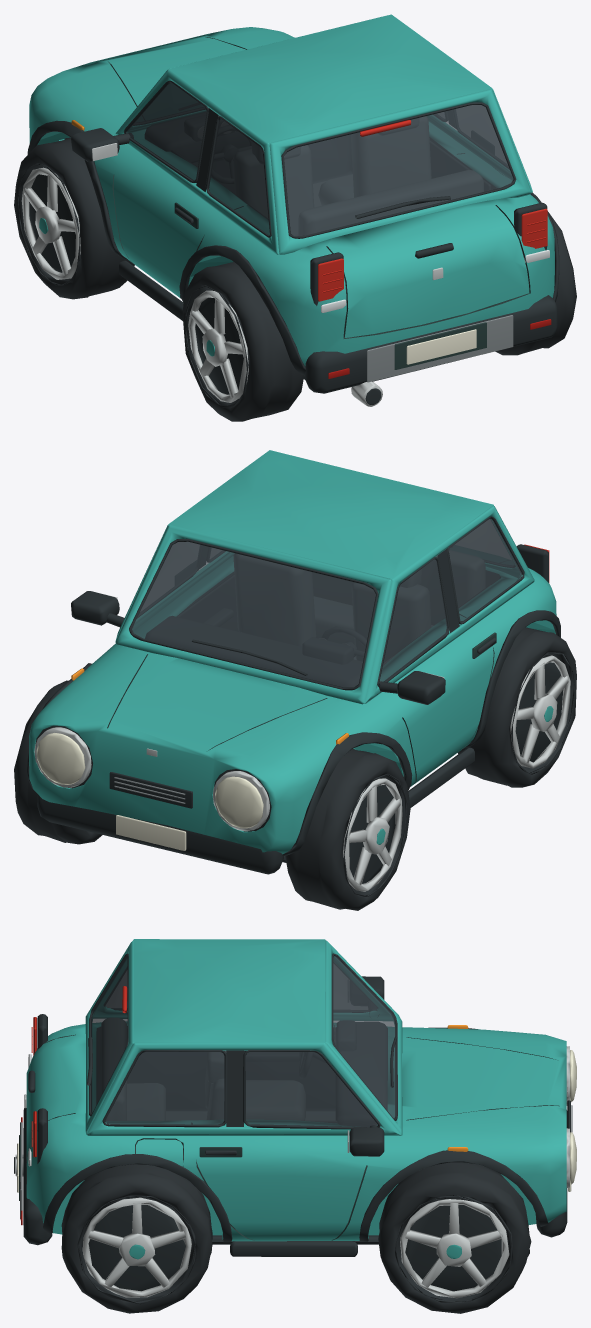
The model's file is compact_v1_lod2.fbx.
3 views of the same model, one above another, from view 1: azimuth 30°, elevation 25°; view 2: azimuth 150°, elevation 25°; view 3: azimuth 270°, elevation 25° (orthographic). The views are drawn at different scales.
Visible parts, largest first — view 1: Body, Wheel_RL_Mesh, Wheel_FL_Mesh, Wheel_RR_Mesh; view 2: Body, Wheel_FL_Mesh, Wheel_RL_Mesh, Wheel_FR_Mesh; view 3: Body, Wheel_FR_Mesh, Wheel_RR_Mesh.
Boxes of the visible parts, box(x1,y1,x2,y2) form: Body: box(27, 14, 559, 406); Wheel_RL_Mesh: box(182, 262, 304, 421); Wheel_FL_Mesh: box(14, 137, 134, 299); Wheel_RR_Mesh: box(495, 212, 576, 355); Body: box(27, 450, 560, 874); Wheel_FL_Mesh: box(285, 748, 410, 910); Wheel_RL_Mesh: box(458, 627, 576, 787); Wheel_FR_Mesh: box(14, 680, 102, 844); Body: box(14, 939, 576, 1256); Wheel_FR_Mesh: box(378, 1162, 531, 1313); Wheel_RR_Mesh: box(61, 1164, 212, 1313).
Size of the model in its own units: 222 by 161 by 316.
